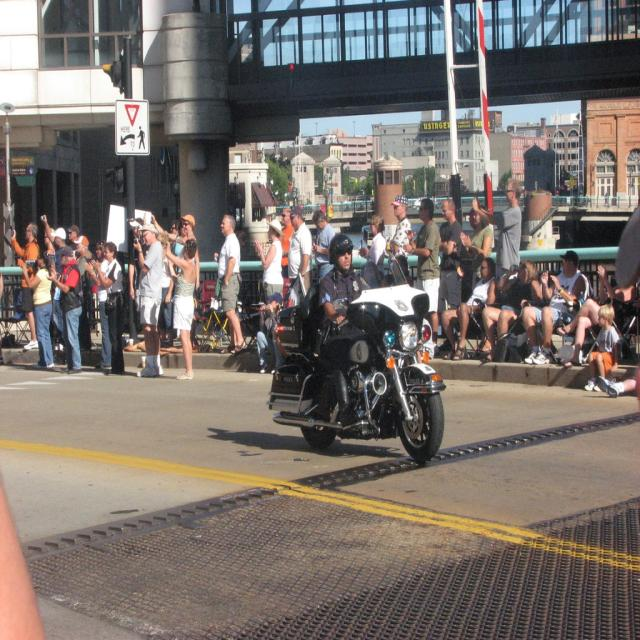Motorbikes: (271, 234, 460, 469)
